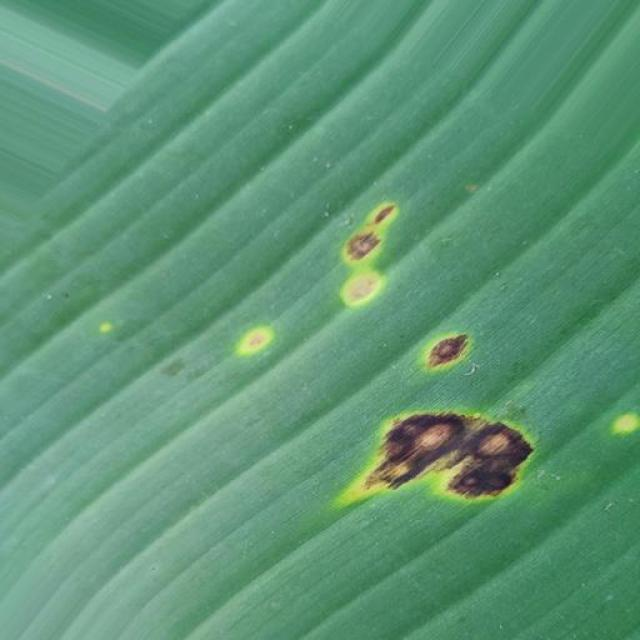Early_rust: (209, 188, 537, 519), (606, 403, 640, 457)
